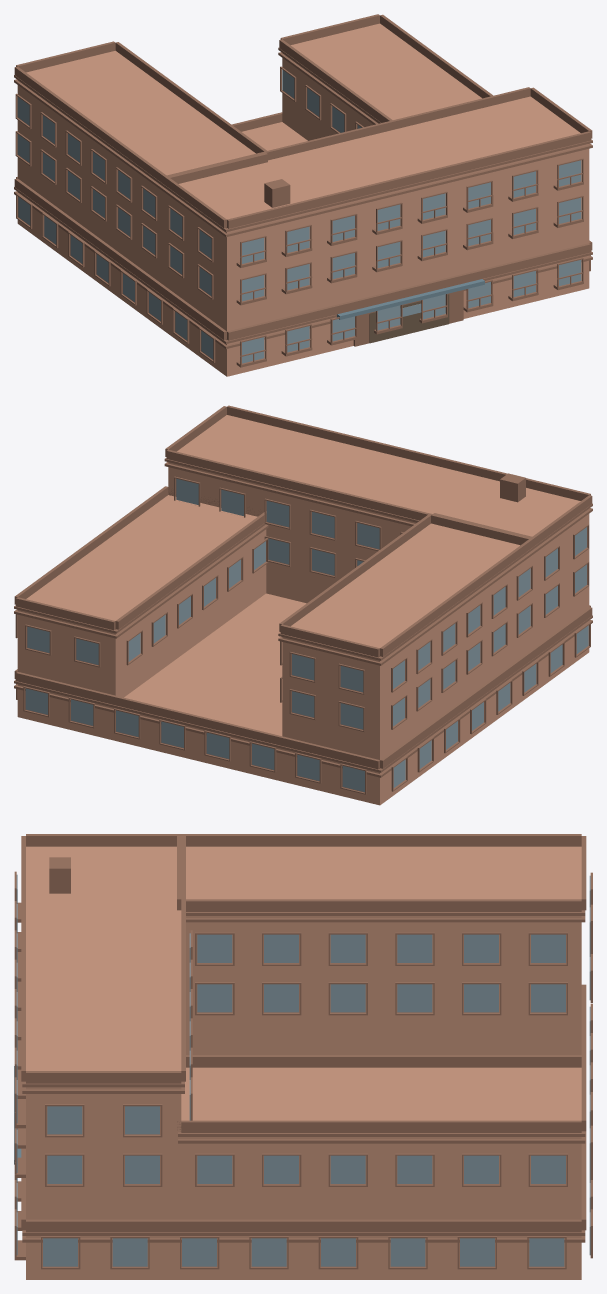
File: residential_4x4_court.glb
3 views of the same model, one above another, from view 1: azimuth 30°, elevation 25°; view 2: azimuth 150°, elevation 25°; view 3: azimuth 270°, elevation 25° (orthographic). The views are drawn at different scales.
Visible parts, largest first — view 1: residential_4x4_court_0; view 2: residential_4x4_court_0; view 3: residential_4x4_court_0.
Boxes of the visible parts, x1,y1,x2,y2 form: residential_4x4_court_0: (14,14,592,376); residential_4x4_court_0: (14,405,592,805); residential_4x4_court_0: (14,834,592,1279).
Bounding box in the file's own units: 31.74 × 13.5 × 31.77.
